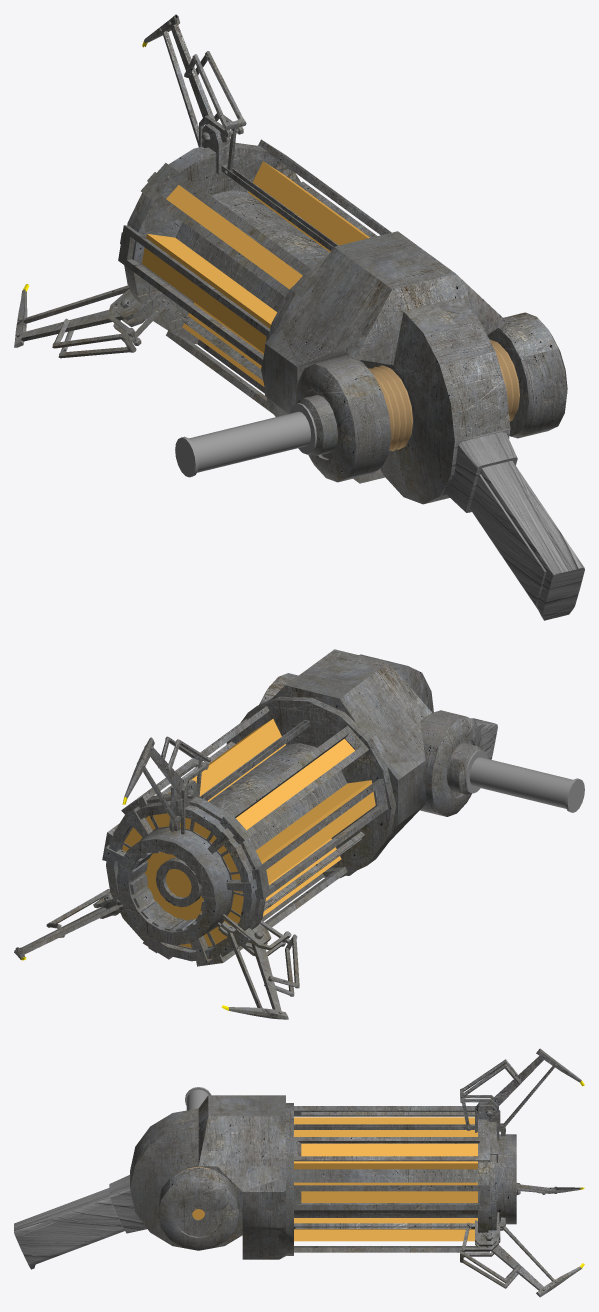
Rendered from gravity_gun.glb.
3 views of the same model, one above another, from view 1: azimuth 30°, elevation 25°; view 2: azimuth 150°, elevation 25°; view 3: azimuth 270°, elevation 25° (orthographic). The views are drawn at different scales.
Parts seen in each view (by area): view 1: Body, Extrusion, Buffer_Layer, Handle_1, Xen_Crystal, Supports, Handle_2, Coils; view 2: Extrusion, Body, Supports, Xen_Crystal, Buffer_Layer, Handle_2, Front_Emitter, Handle_1; view 3: Extrusion, Body, Xen_Crystal, Supports, Handle_1, Buffer_Layer, Handle_2.
Part boxes in pixels (box(x1,y1,x2,y2)): Body: box(265, 231, 510, 504); Extrusion: box(14, 14, 433, 416); Buffer_Layer: box(295, 312, 567, 482); Handle_1: box(440, 428, 584, 620); Xen_Crystal: box(142, 161, 369, 386); Supports: box(118, 139, 391, 413); Handle_2: box(175, 403, 316, 477); Coils: box(368, 339, 519, 451); Extrusion: box(14, 696, 396, 1019); Body: box(226, 649, 433, 875); Supports: box(102, 706, 388, 966); Xen_Crystal: box(168, 719, 375, 916); Buffer_Layer: box(259, 673, 482, 816); Handle_2: box(464, 749, 584, 812); Front_Emitter: box(122, 813, 243, 947); Handle_1: box(471, 718, 497, 759); Extrusion: box(280, 1048, 581, 1297); Body: box(130, 1095, 285, 1259); Xen_Crystal: box(294, 1117, 477, 1241); Supports: box(294, 1106, 489, 1252); Handle_1: box(14, 1175, 146, 1269); Buffer_Layer: box(158, 1166, 239, 1250); Handle_2: box(185, 1087, 211, 1110).
Bounding box in the file's own units: 2.21 × 1.68 × 4.
Materials: 7 (2 with a texture image).
